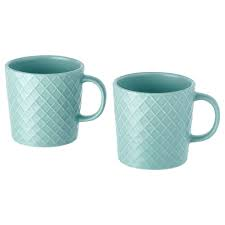cup: (110, 63, 221, 173), (3, 48, 109, 148)
